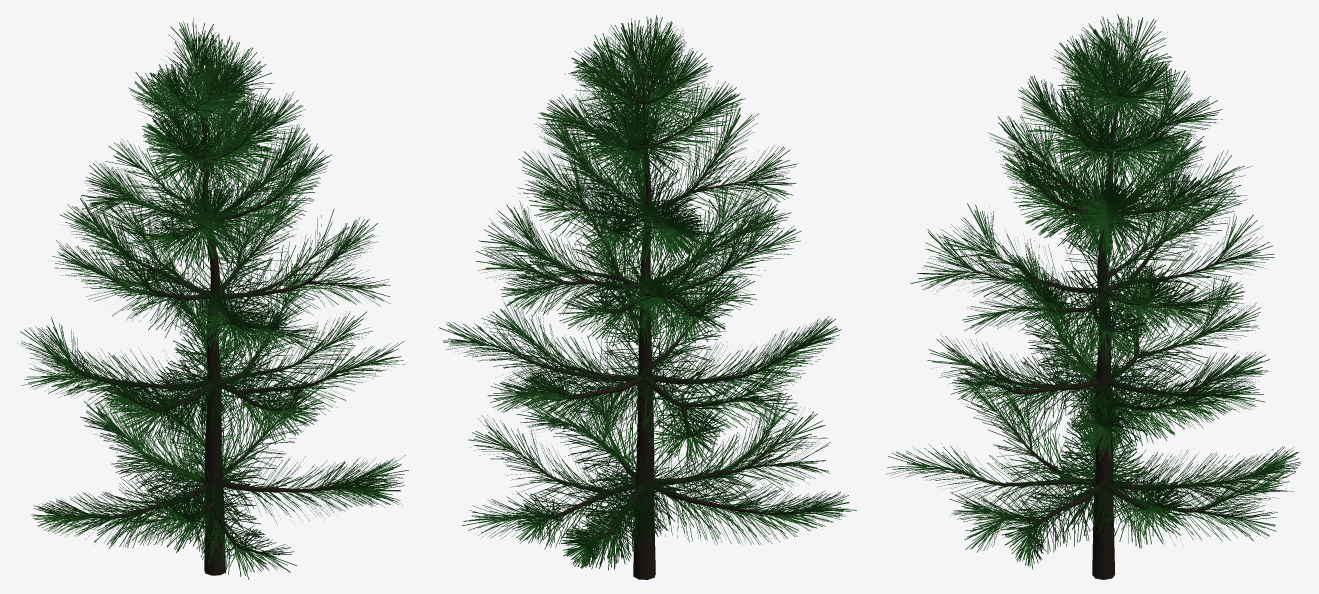
File: PineTree.fbx
3 renders of one model, left to right at view 1: azimuth 30°, elevation 25°; view 2: azimuth 150°, elevation 25°; view 3: azimuth 270°, elevation 25°, orthographic. The views are drawn at different scales.
Visible parts, largest first — view 1: PineTree_LOD0; view 2: PineTree_LOD0; view 3: PineTree_LOD0.
Part boxes in pixels (x1,y1,x2,y2): PineTree_LOD0: (20,18,408,579); PineTree_LOD0: (439,15,856,579); PineTree_LOD0: (885,14,1300,579).
Size of what is drawn, in the model's own units: 653 by 975 by 667.
